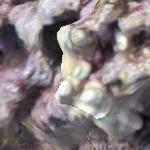alive: (3, 3, 145, 146)
